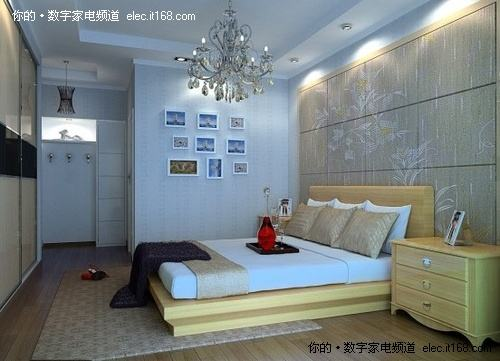床: (138, 235, 404, 331)
枕头: (286, 197, 406, 258)
灯: (172, 9, 282, 107), (55, 60, 76, 116), (341, 23, 355, 32), (288, 58, 300, 66)
